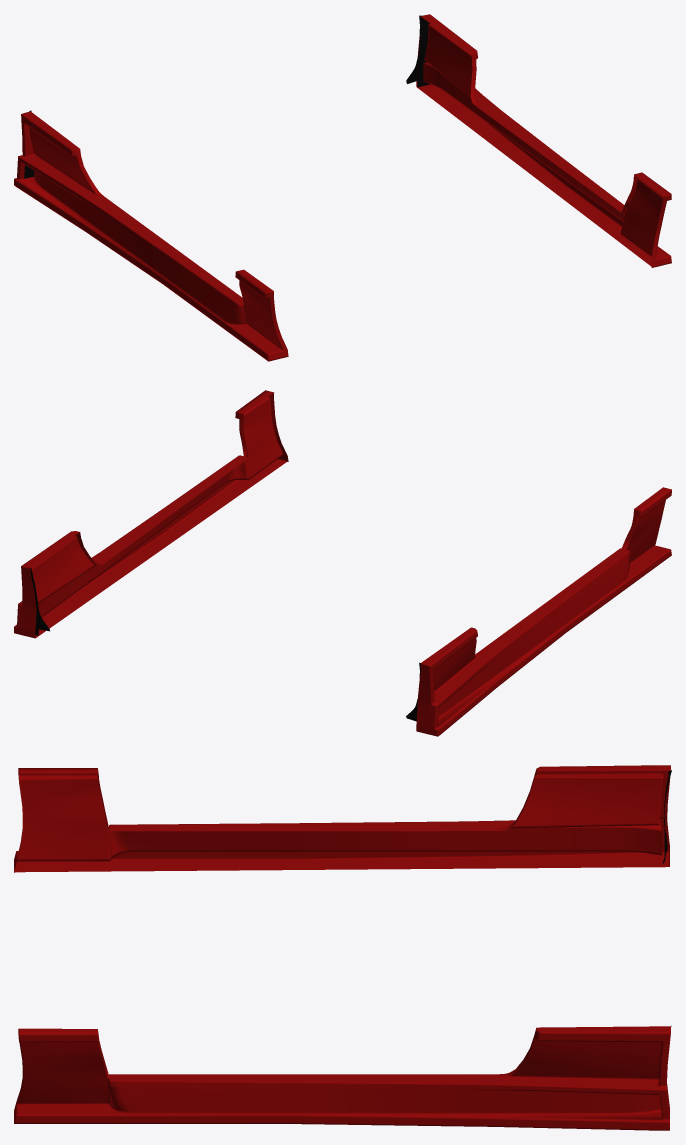
The model's file is sideskirts_carmodifywonderglare.glb.
The picture shows the model from 3 angles, top to bottom: view 1: azimuth 30°, elevation 25°; view 2: azimuth 150°, elevation 25°; view 3: azimuth 270°, elevation 25°; orthographic projection. The views are drawn at different scales.
Parts seen in each view (by area): view 1: Sideskirts, Cover; view 2: Sideskirts; view 3: Sideskirts.
Boxes of the visible parts, x1,y1,x2,y2 form: Sideskirts: (14, 14, 671, 361); Cover: (24, 15, 430, 178); Sideskirts: (14, 390, 671, 736); Sideskirts: (14, 765, 670, 1130).
Bounding box in the file's own units: 1.8 × 0.2845 × 1.8.
